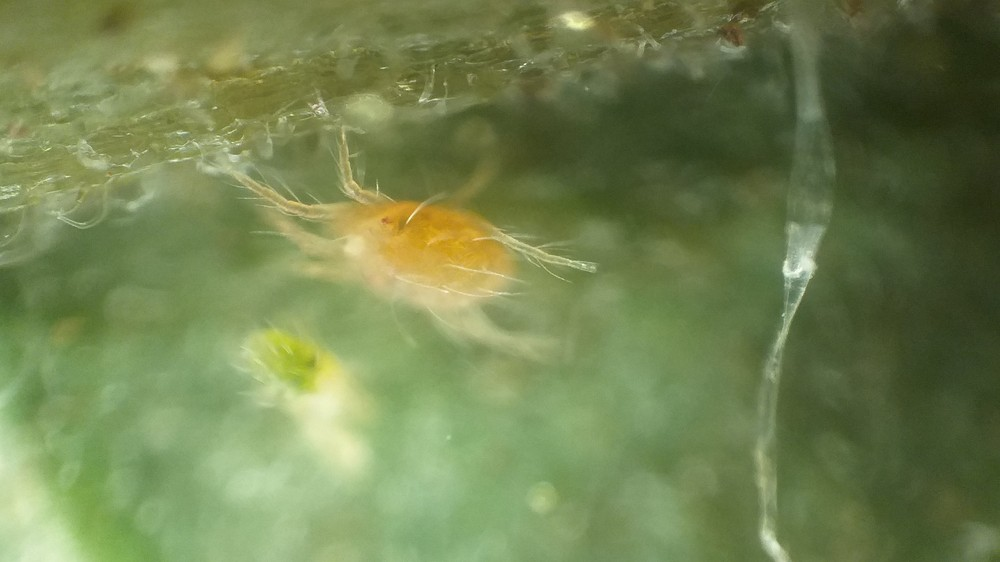Aracnido Rojo: (207, 111, 609, 349)
